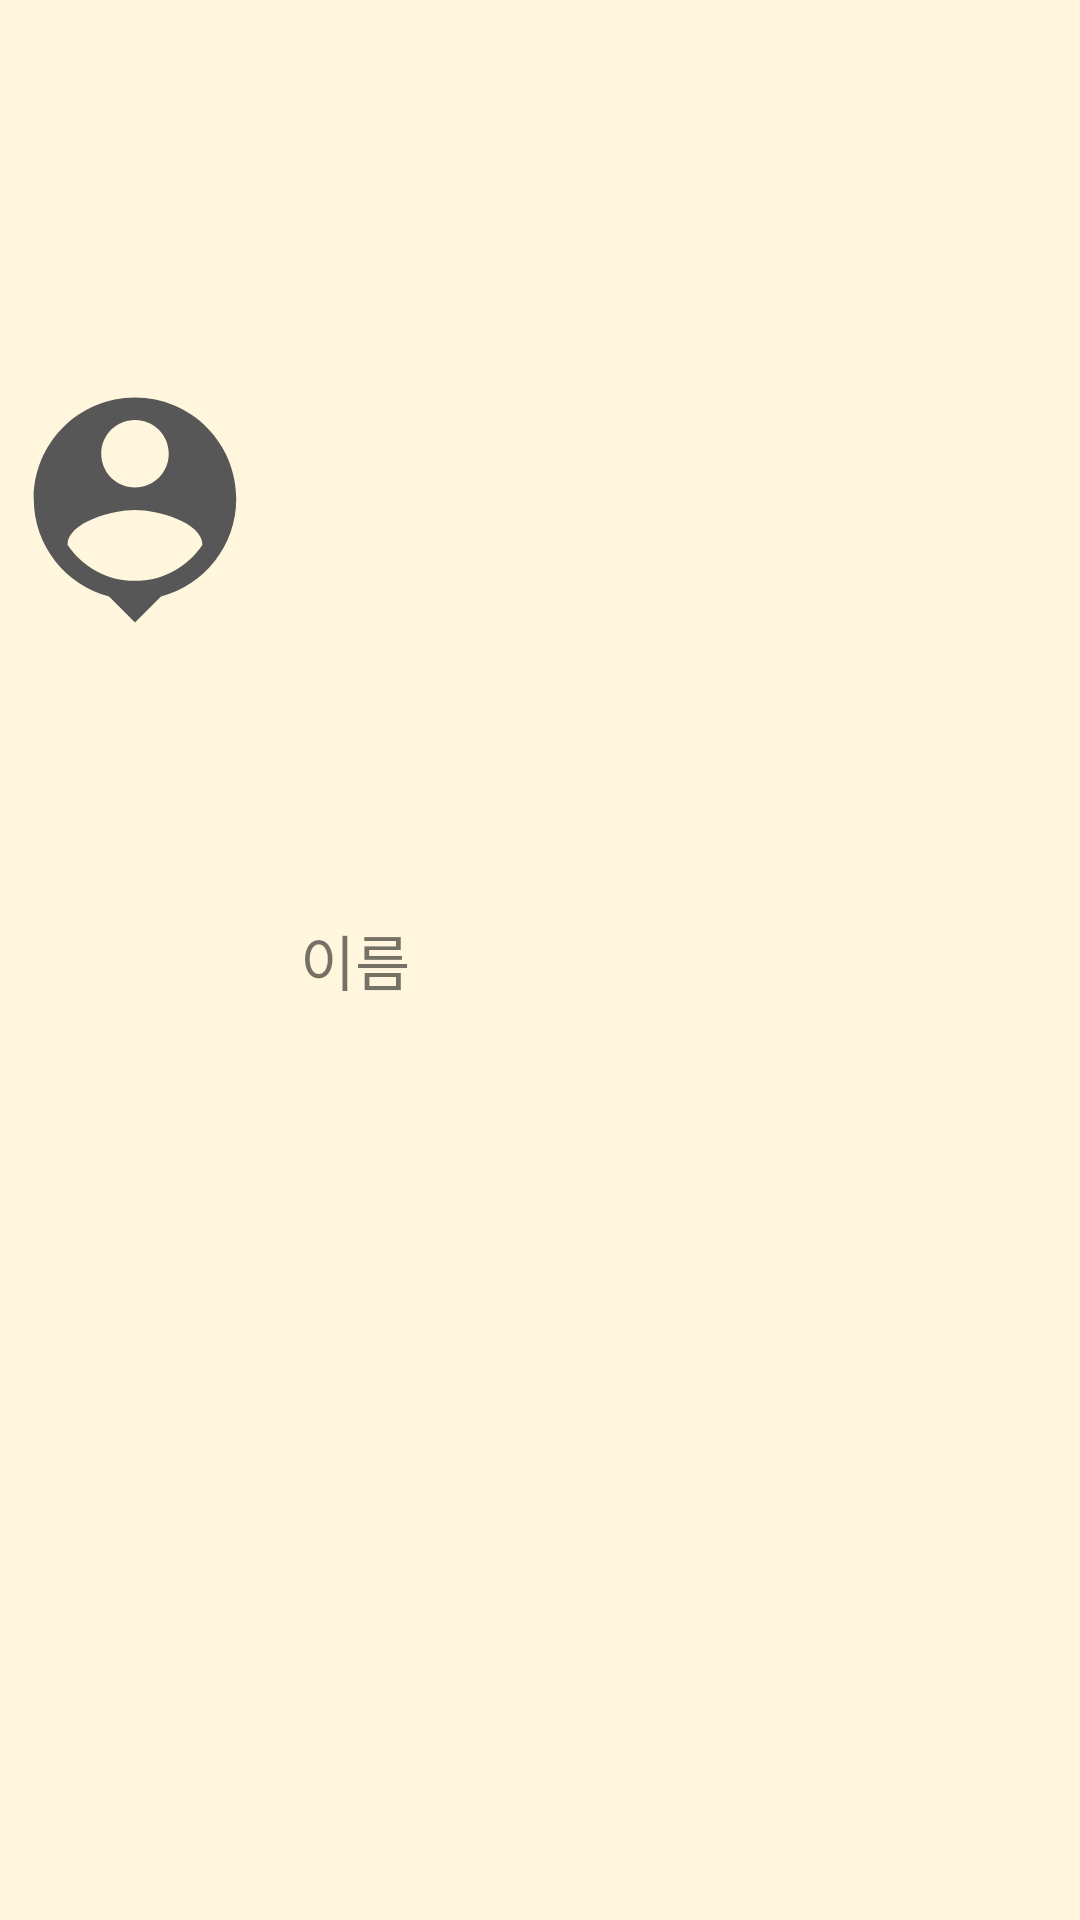

Icons on this 1080w x 1920h Android screen, each with its box as (x1, y1, x2, y2):
person pin: (33, 397, 237, 622)
